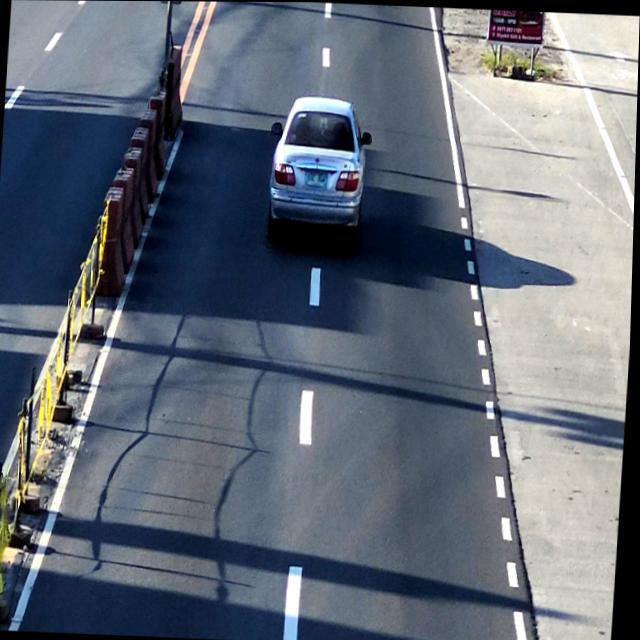Car: (267, 93, 370, 244)
License-Plate: (303, 168, 330, 186)
